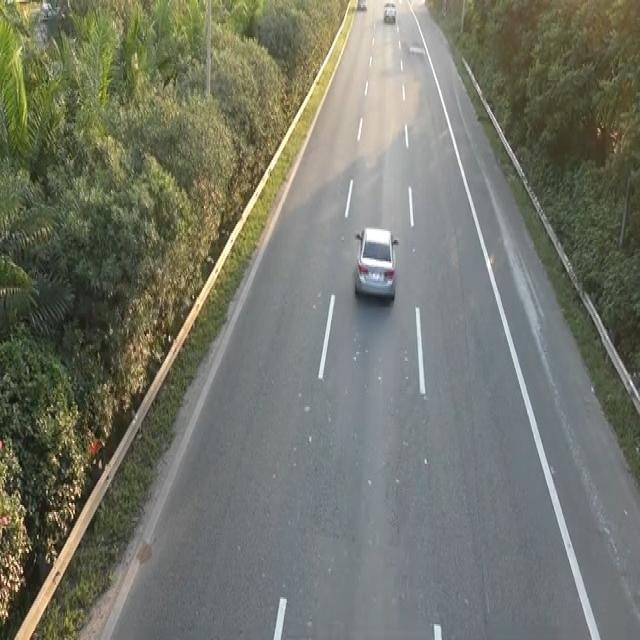bus: (351, 222, 399, 302)
car: (382, 0, 397, 23)
